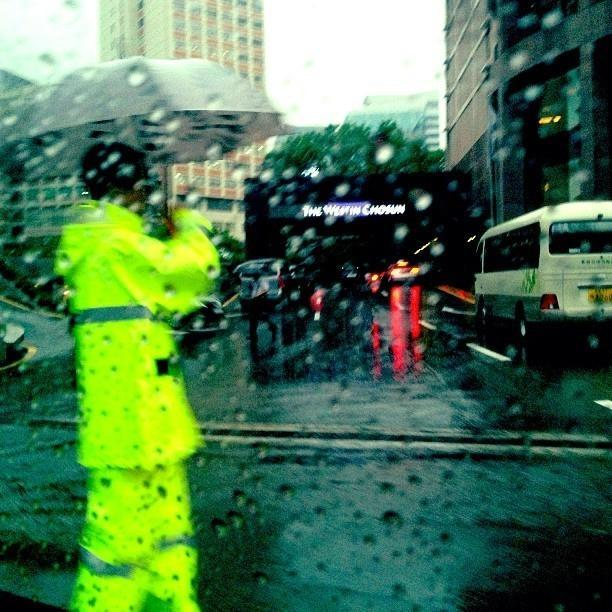bus: (473, 199, 612, 344)
car: (235, 258, 292, 298), (380, 258, 420, 282)
